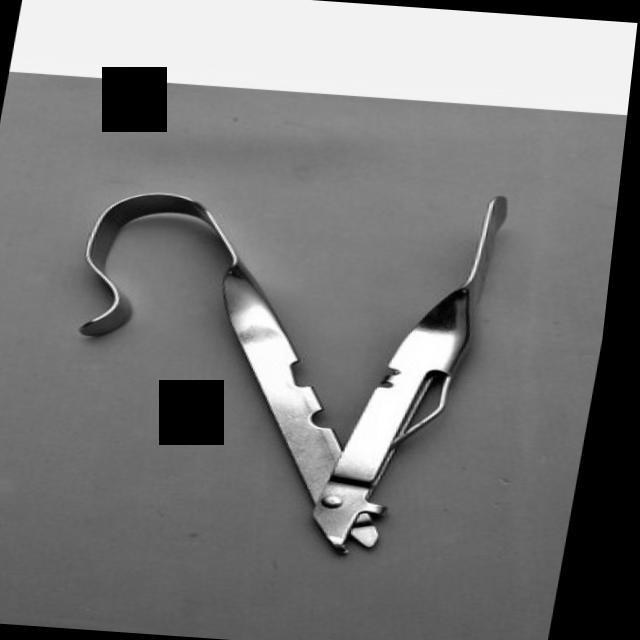Stapler Remover: (32, 164, 526, 569)
